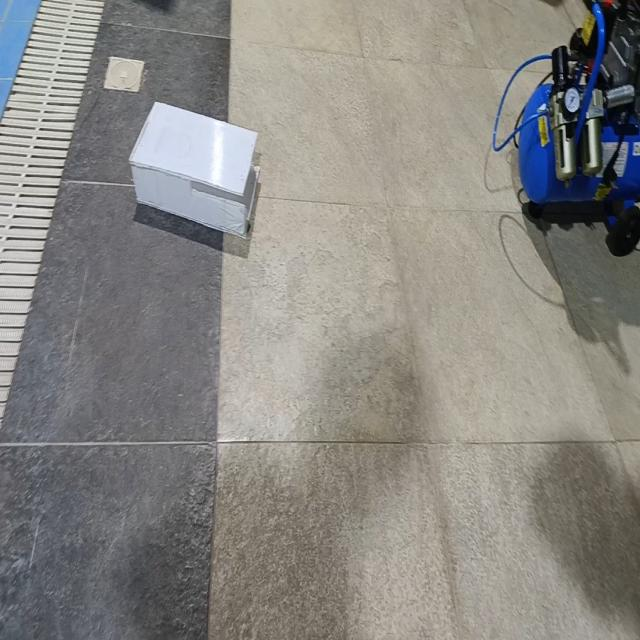Cuboid: (128, 98, 260, 238)
